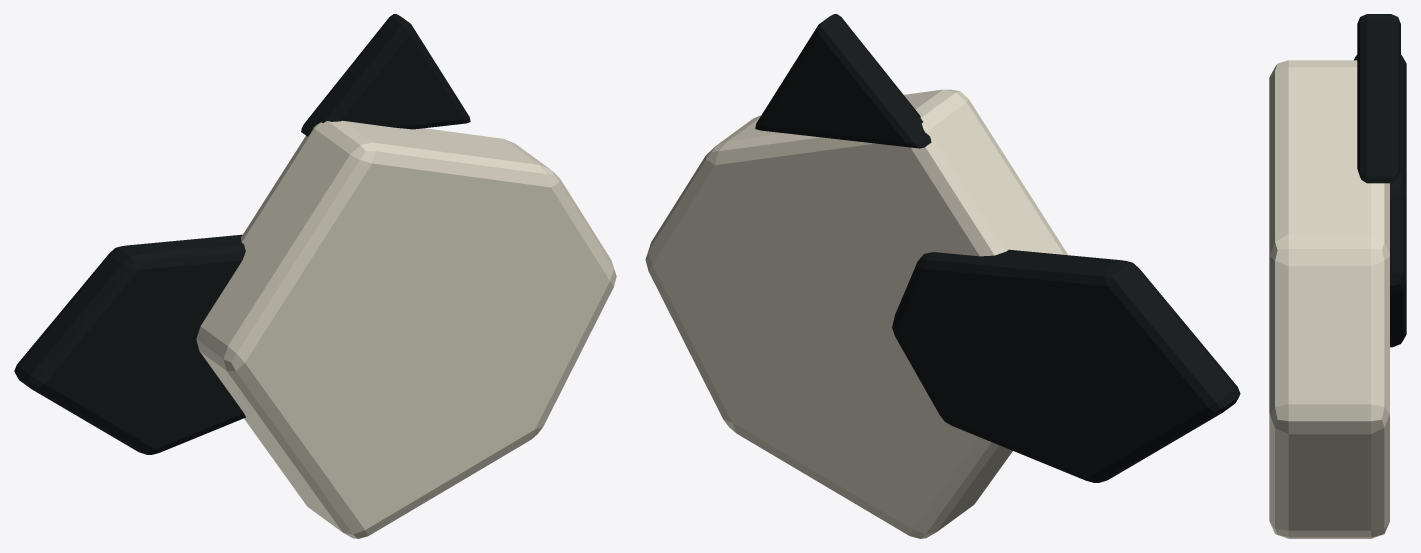
The picture shows the model from 3 angles, left to right: view 1: azimuth 30°, elevation 25°; view 2: azimuth 150°, elevation 25°; view 3: azimuth 270°, elevation 25°; orthographic projection. The views are drawn at different scales.
Visible parts, largest first — view 1: 4 paper kite fish, 4 black flag tail, 4 ink dorsal; view 2: 4 paper kite fish, 4 black flag tail, 4 ink dorsal; view 3: 4 paper kite fish, 4 ink dorsal, 4 black flag tail.
Part boxes in pixels (x1,y1,x2,y2): 4 paper kite fish: (196, 120, 616, 538); 4 black flag tail: (14, 234, 245, 454); 4 ink dorsal: (301, 14, 470, 136); 4 paper kite fish: (645, 89, 1067, 538); 4 black flag tail: (892, 249, 1240, 482); 4 ink dorsal: (755, 14, 931, 148); 4 paper kite fish: (1269, 60, 1389, 538); 4 ink dorsal: (1357, 14, 1400, 183); 4 black flag tail: (1354, 54, 1406, 347).
Size of the model in its own units: 1.34 by 1.09 by 0.25.
